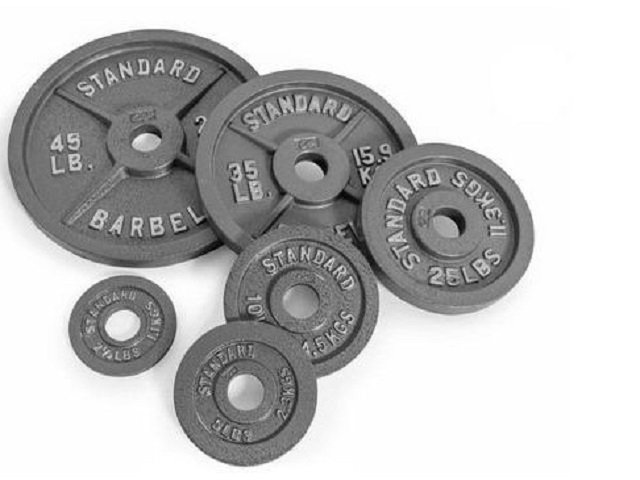weights: (8, 29, 258, 267), (194, 69, 419, 253), (360, 142, 535, 313), (223, 227, 381, 378), (175, 322, 318, 467), (67, 275, 177, 376)
